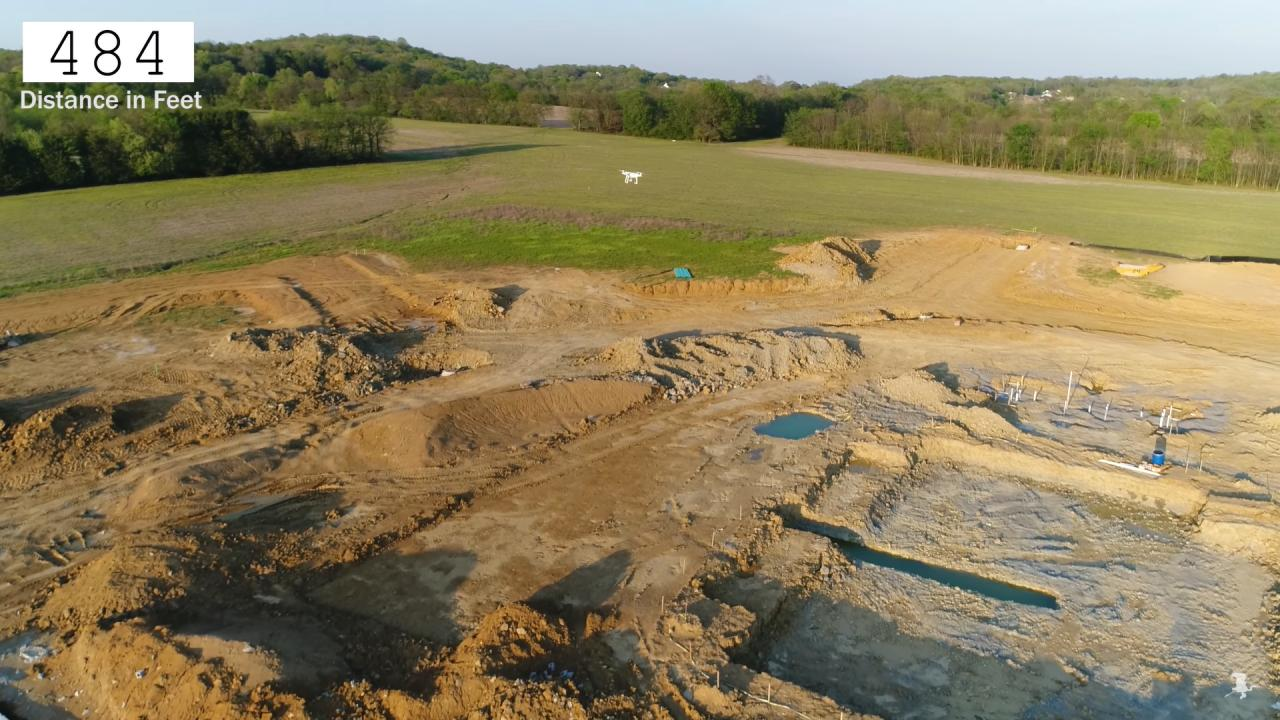Drone: (612, 160, 649, 194)
